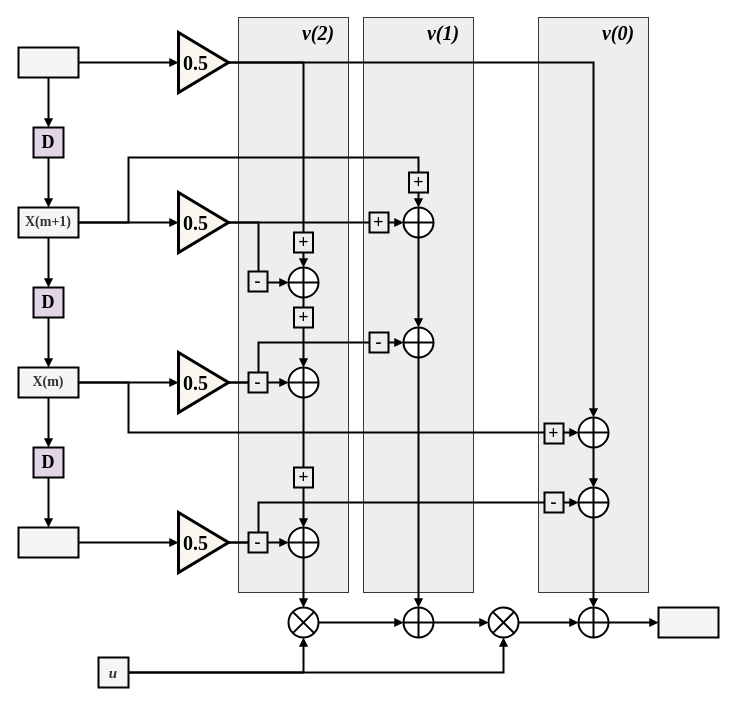
Some shapes in this 736 by 706 pixel diagram are drawn without their labels. Each missing label, with the box of its shape:
X(m+2): (17, 46, 79, 78)
X(m+u): (657, 606, 719, 638)
X(m-1): (17, 526, 79, 558)
